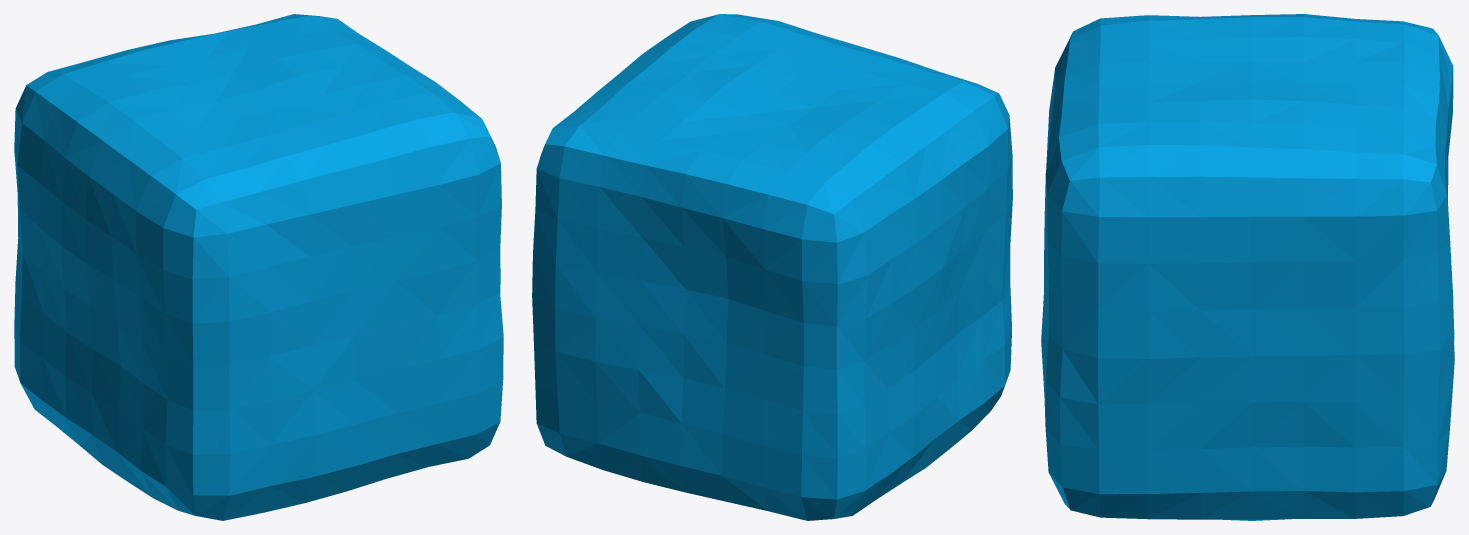
The model's file is Ice Skull.dae.
3 views of the same model, side by side, from view 1: azimuth 30°, elevation 25°; view 2: azimuth 150°, elevation 25°; view 3: azimuth 270°, elevation 25° (orthographic). The views are drawn at different scales.
Parts seen in each view (by area): view 1: Box001; view 2: Box001; view 3: Box001.
Boxes of the visible parts, left/top/right/bottom form: Box001: left=14, top=14, right=503, bottom=520; Box001: left=532, top=14, right=1012, bottom=520; Box001: left=1041, top=14, right=1454, bottom=520.
Bounding box in the file's own units: 1.34 × 1.3 × 1.32.
